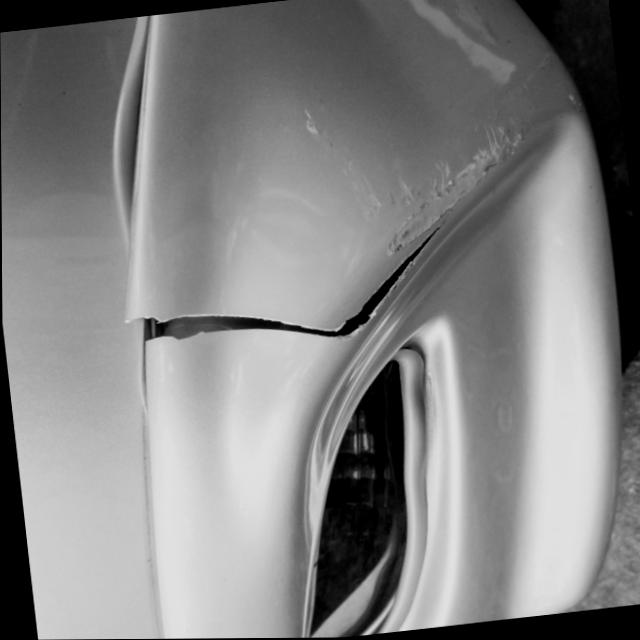Crack: (119, 214, 460, 346)
Scratch: (342, 113, 531, 258)
